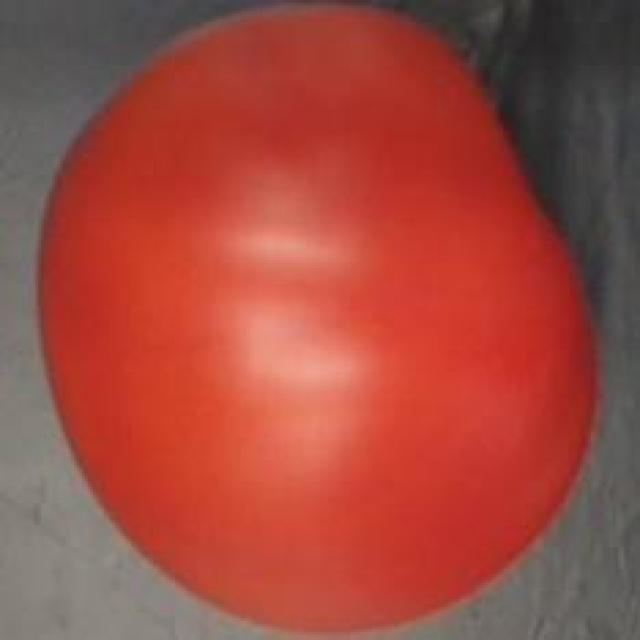ripe tomato: (27, 2, 612, 640)
